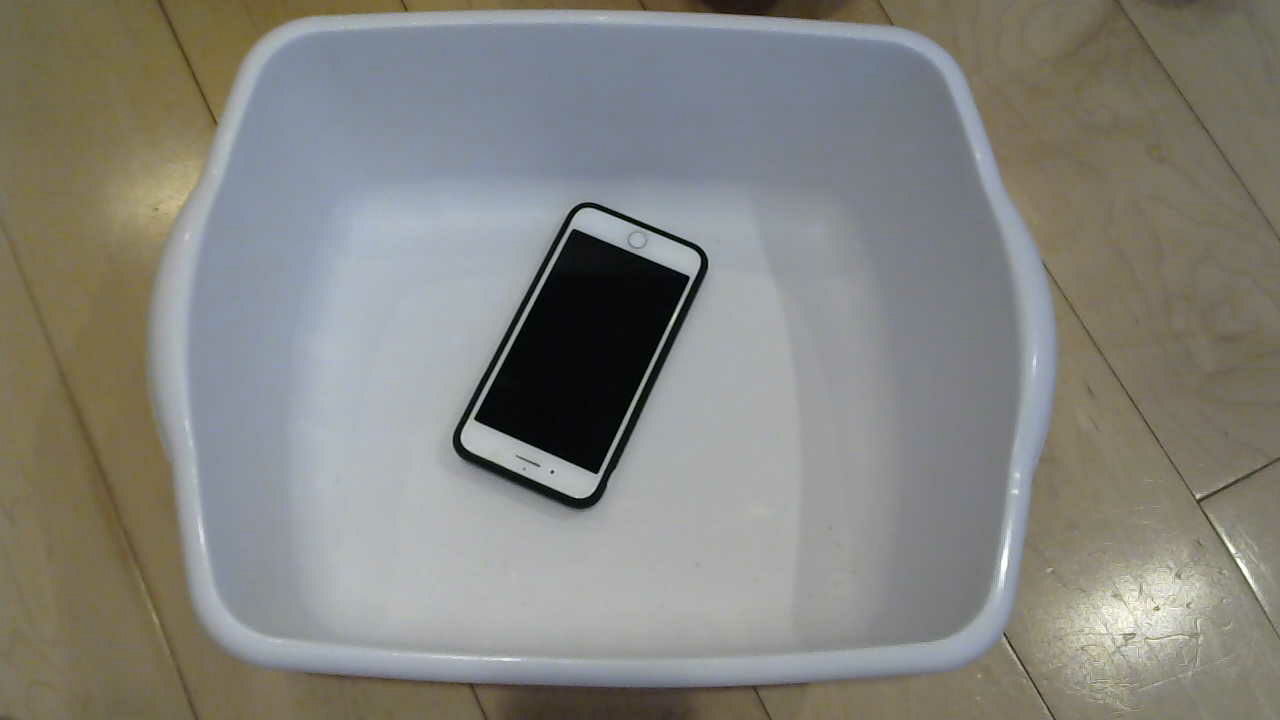phone: (442, 192, 721, 526)
